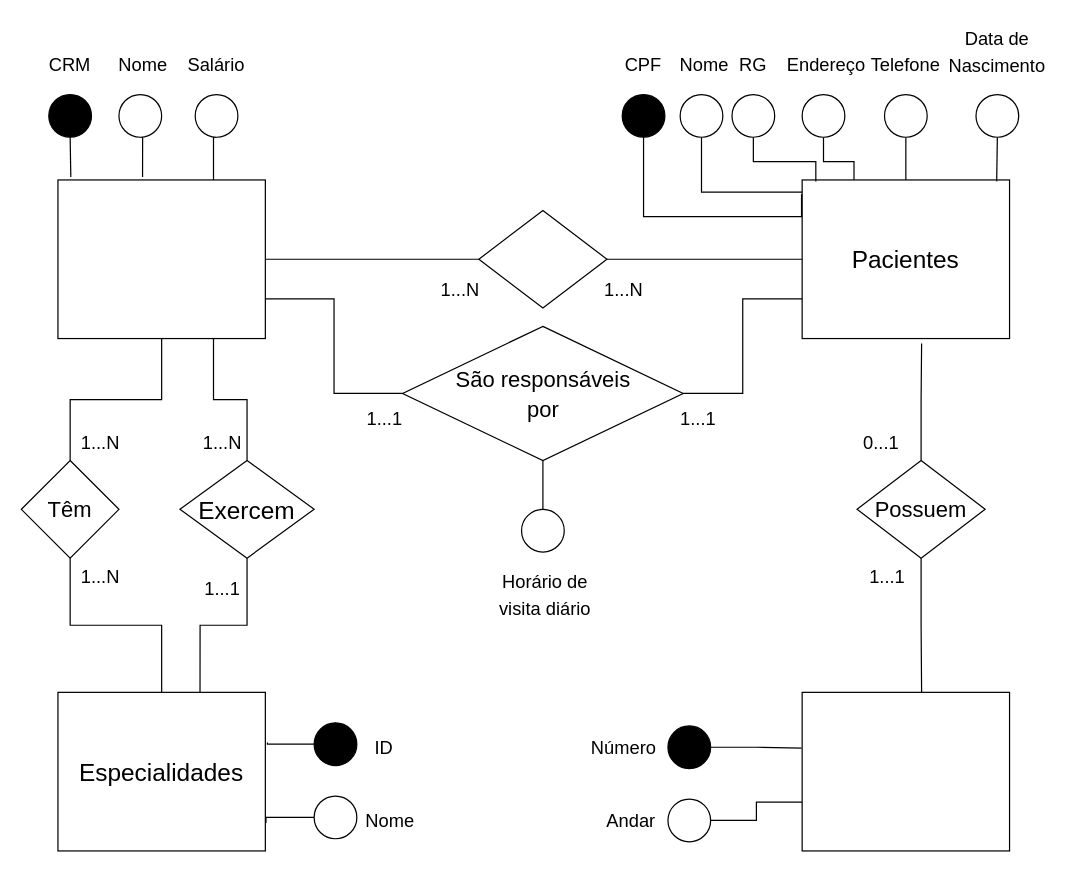
Image size: 1066x872. Some labels were removed from this diagram. The shapes that lost their labels are listed below. From the top down, each one's centre as x and y in pixels, then its label:
[161,259]: Médicos
[542,258]: Atendem
[905,771]: Quartos
